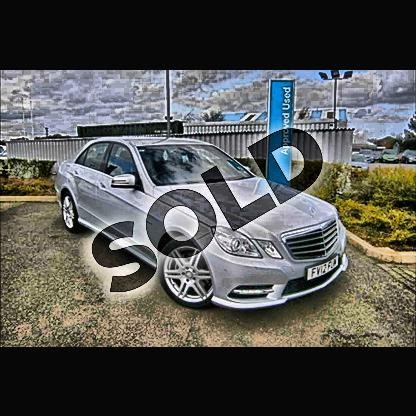Mercedes-Benz E-Class Sedan 2012: (54, 135, 350, 313)
